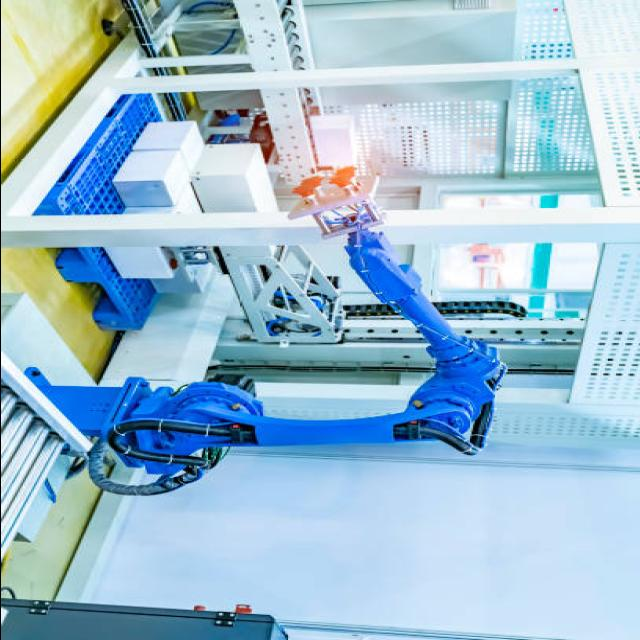Robotic-arm: (0, 208, 522, 497)
